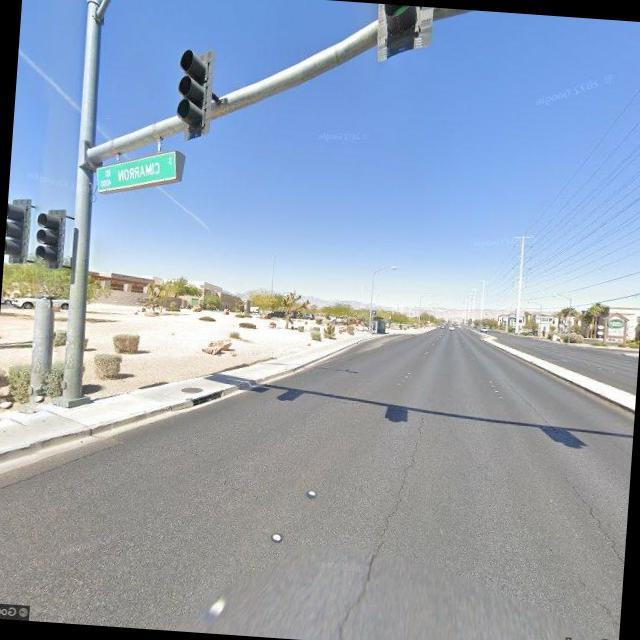pothole: (330, 402, 428, 640), (560, 480, 630, 614)
